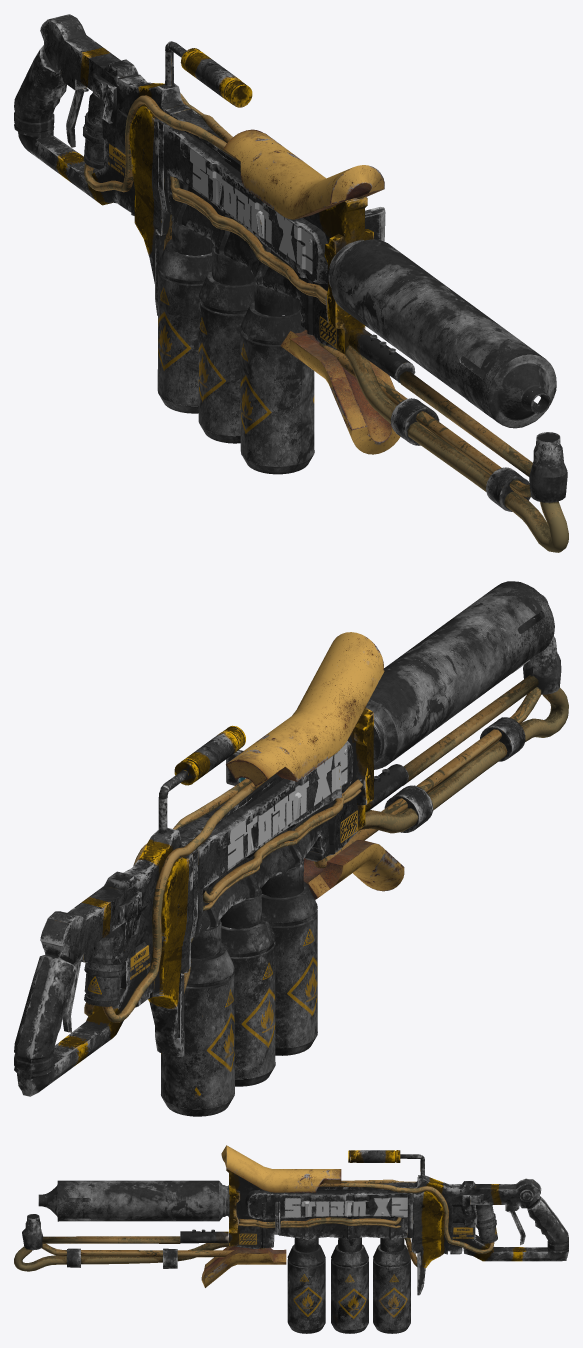
The model's file is flamethrower.glb.
3 views of the same model, one above another, from view 1: azimuth 30°, elevation 25°; view 2: azimuth 150°, elevation 25°; view 3: azimuth 270°, elevation 25° (orthographic). The views are drawn at different scales.
Parts seen in each view (by area): view 1: flamethrower; view 2: flamethrower; view 3: flamethrower.
Part boxes in pixels (x1,y1,x2,y2): flamethrower: (14, 14, 568, 552); flamethrower: (14, 581, 568, 1116); flamethrower: (14, 1145, 568, 1333).
Size of the model in its own units: 0.1029 by 0.3057 by 0.85.
Materials: 7 (7 with a texture image).
